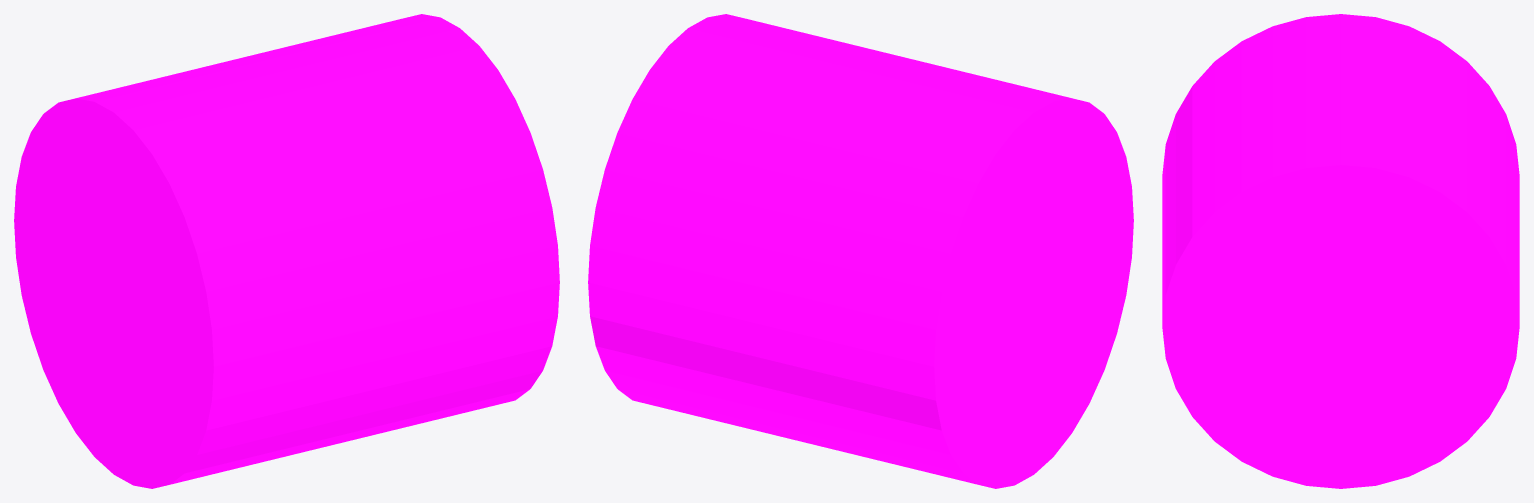
Rendered from UnitCylinderMagenta.dae.
3 renders of one model, left to right at view 1: azimuth 30°, elevation 25°; view 2: azimuth 150°, elevation 25°; view 3: azimuth 270°, elevation 25°, orthographic. The views are drawn at different scales.
Visible parts, largest first — view 1: Cylinder; view 2: Cylinder; view 3: Cylinder.
Part boxes in pixels (x1,y1,x2,y2): Cylinder: (14,14,559,488); Cylinder: (588,14,1133,488); Cylinder: (1162,14,1519,488).
Bounding box in the file's own units: 1 × 1 × 1.
